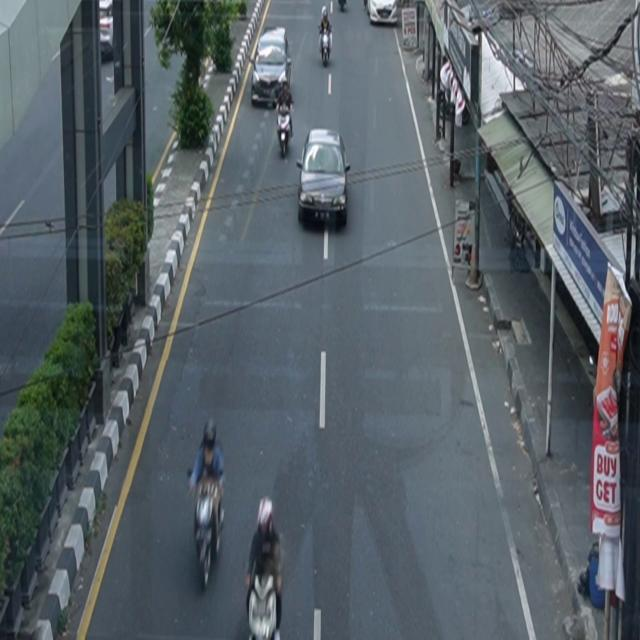car: (297, 129, 352, 228), (252, 27, 293, 110), (100, 1, 114, 63), (364, 1, 398, 26)
